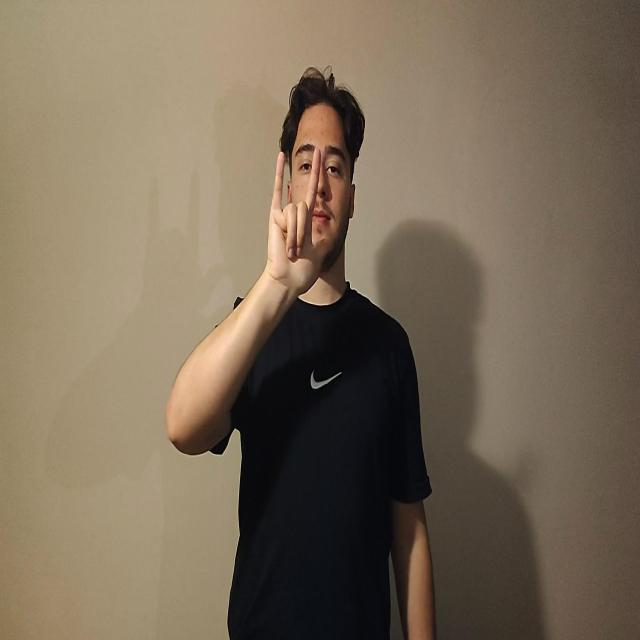iloveyou: (265, 146, 329, 297)
